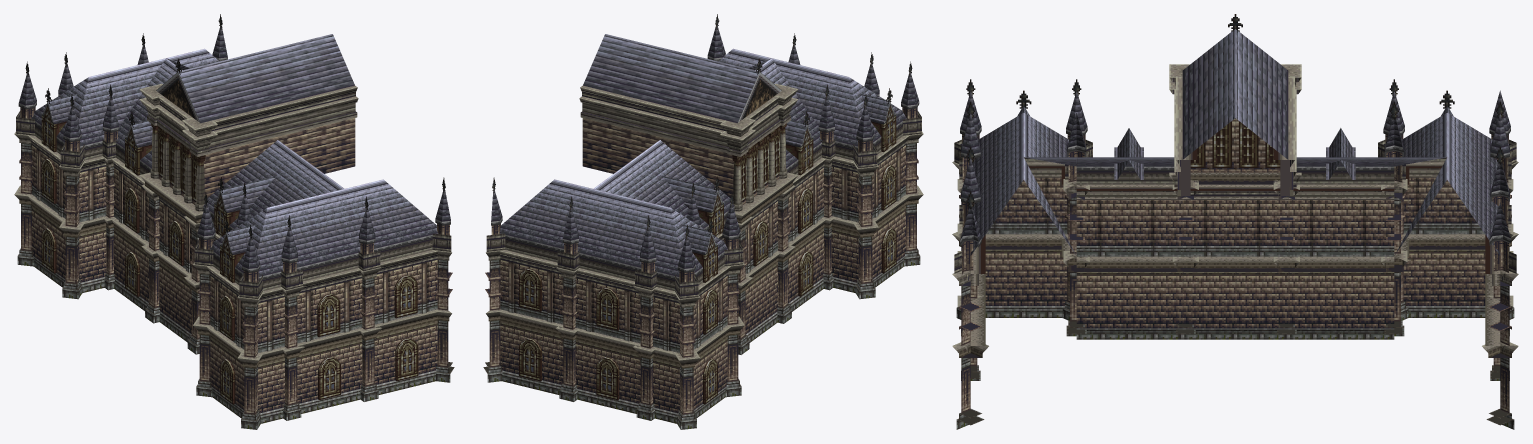
Rendered from BuildingRef.fbx.
3 views of the same model, side by side, from view 1: azimuth 30°, elevation 25°; view 2: azimuth 150°, elevation 25°; view 3: azimuth 270°, elevation 25° (orthographic). The views are drawn at different scales.
Parts seen in each view (by area): view 1: ObjMD_Mansion_River_A.mo; view 2: ObjMD_Mansion_River_A.mo; view 3: ObjMD_Mansion_River_A.mo.
Part boxes in pixels (x1=…): ObjMD_Mansion_River_A.mo: x1=14, y1=14, x2=454, y2=429; ObjMD_Mansion_River_A.mo: x1=483, y1=14, x2=923, y2=429; ObjMD_Mansion_River_A.mo: x1=952, y1=14, x2=1518, y2=429.
Bounding box in the file's own units: 11.24 × 13.62 × 21.41.
